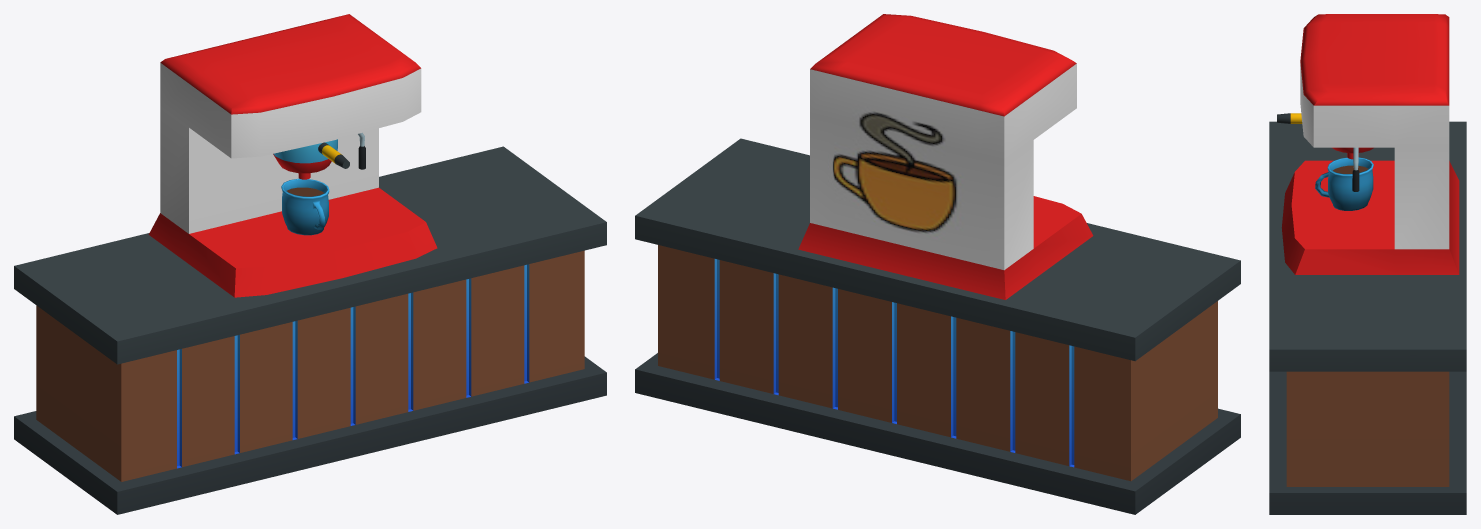
Rendered from Coffee machine Table 01.fbx.
The picture shows the model from 3 angles, left to right: view 1: azimuth 30°, elevation 25°; view 2: azimuth 150°, elevation 25°; view 3: azimuth 270°, elevation 25°; orthographic projection. The views are drawn at different scales.
Parts seen in each view (by area): view 1: C_table_01, Coffee_machines_01, Cup; view 2: C_table_01, Coffee_machines_01; view 3: C_table_01, Coffee_machines_01, Cup.
Boxes of the visible parts, x1,y1,x2,y2 form: C_table_01: (14,146,606,514); Coffee_machines_01: (148,14,437,297); Cup: (281,178,329,235); C_table_01: (635,138,1240,514); Coffee_machines_01: (798,14,1093,299); C_table_01: (1269,121,1466,514); Coffee_machines_01: (1277,14,1459,274); Cup: (1315,157,1373,210).
Size of the model in its own units: 28.07 by 19.65 by 10.26.
Materials: 1 (1 with a texture image).
